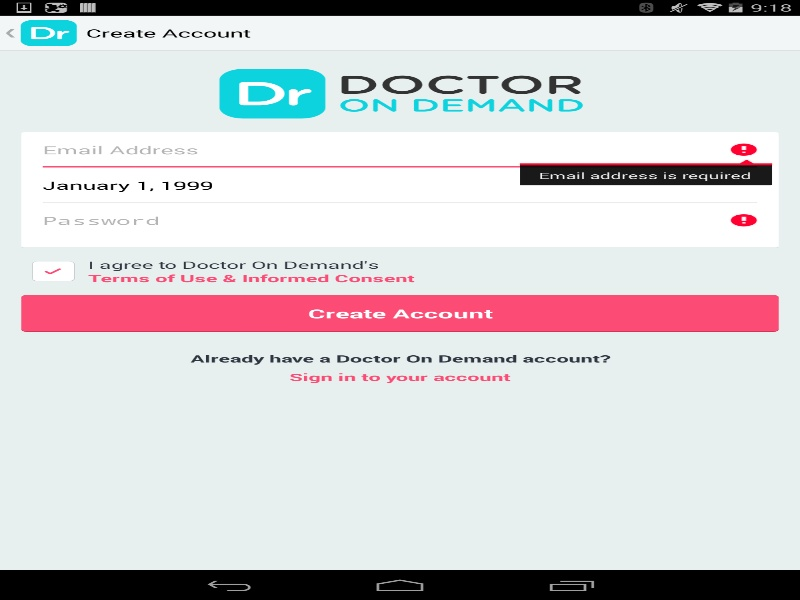Button: (21, 295, 778, 331)
Input: (42, 202, 757, 238), (42, 132, 757, 167), (42, 167, 757, 202)
